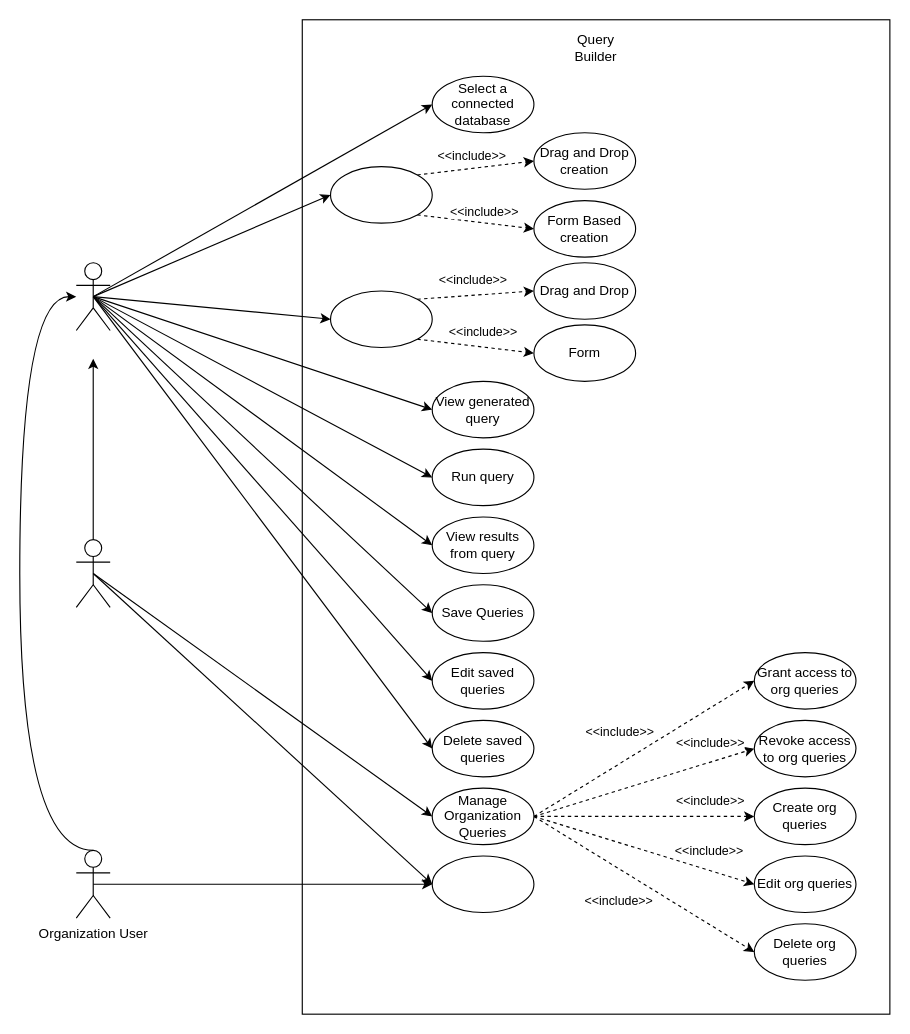
Some shapes in this 910 by 1034 pixel diagram are drawn without their labels. The box of each missing label's shape, as (x1, y1, x2, y2) in pixels:
Access org queries: (431, 855, 534, 912)
Create a query: (329, 166, 432, 223)
Organization Owner/Administrator: (75, 538, 110, 607)
Toggle between views: (329, 290, 432, 347)
User: (75, 262, 110, 331)
